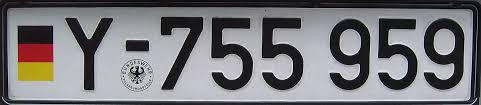5: (260, 16, 305, 92), (211, 15, 255, 92), (377, 15, 419, 91)
7: (159, 15, 205, 93)
9: (328, 17, 371, 92), (423, 17, 465, 91)
Y: (64, 16, 115, 91)
